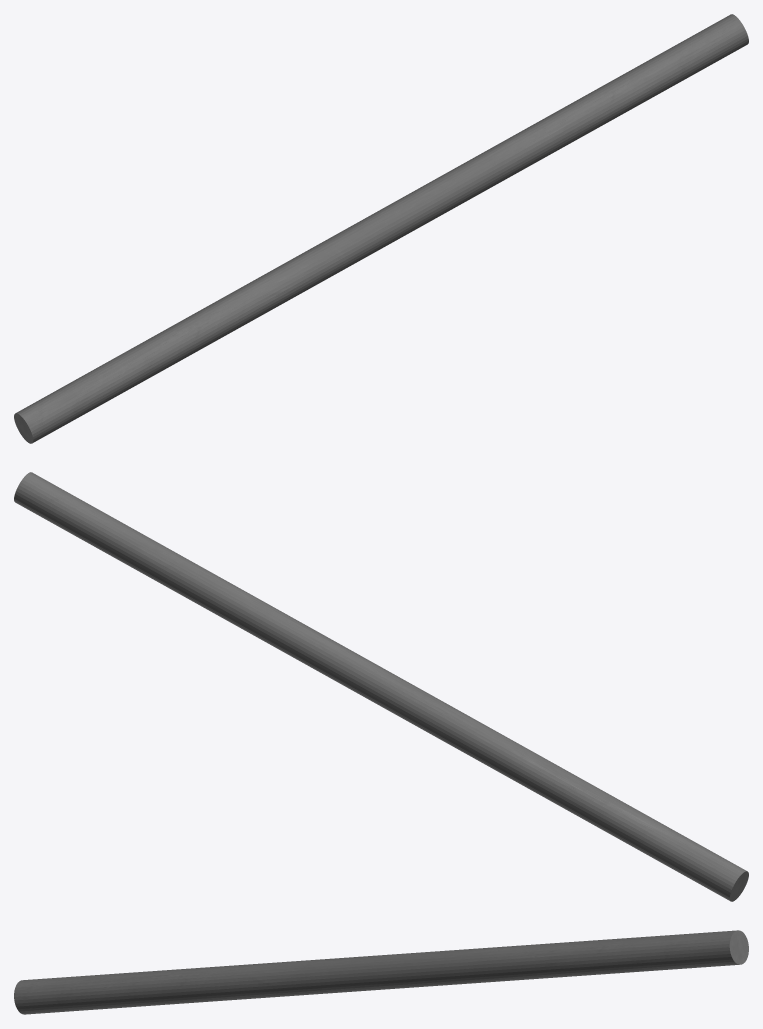
File: Loli-Pink-Stiel-liegend.gltf
3 renders of one model, top to bottom at view 1: azimuth 30°, elevation 25°; view 2: azimuth 150°, elevation 25°; view 3: azimuth 330°, elevation 25°, orthographic.
Parts seen in each view (by area): view 1: Loli-Pink-Stiel-liegend; view 2: Loli-Pink-Stiel-liegend; view 3: Loli-Pink-Stiel-liegend.
Part boxes in pixels (x1,y1,x2,y2): Loli-Pink-Stiel-liegend: (14,14,748,443); Loli-Pink-Stiel-liegend: (14,472,748,901); Loli-Pink-Stiel-liegend: (14,930,748,1014).
Bounding box in the file's own units: 2.42 × 0.8134 × 0.1.
1 material, 1 textured.
